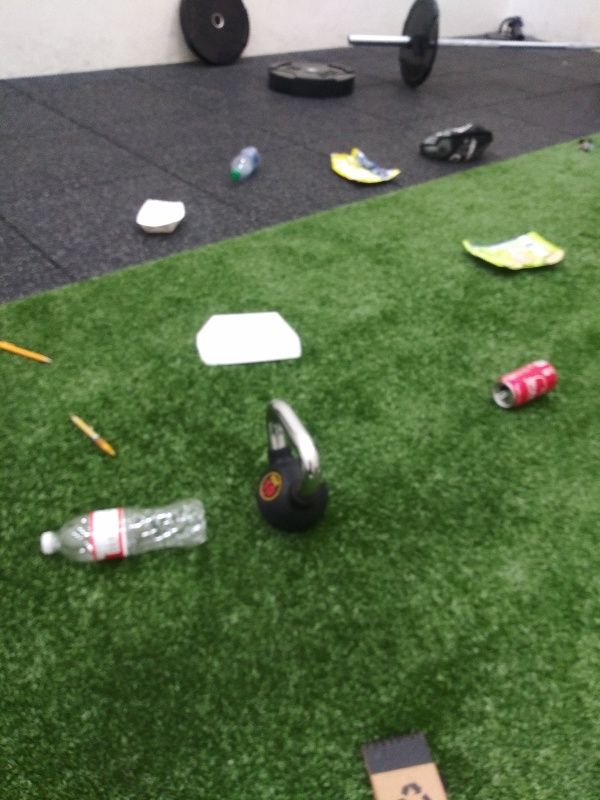bag: (457, 225, 573, 272), (325, 144, 404, 187)
bottle: (35, 492, 212, 569), (224, 141, 267, 186)
can: (487, 356, 563, 412)
plate: (196, 307, 305, 372), (130, 192, 189, 237)
